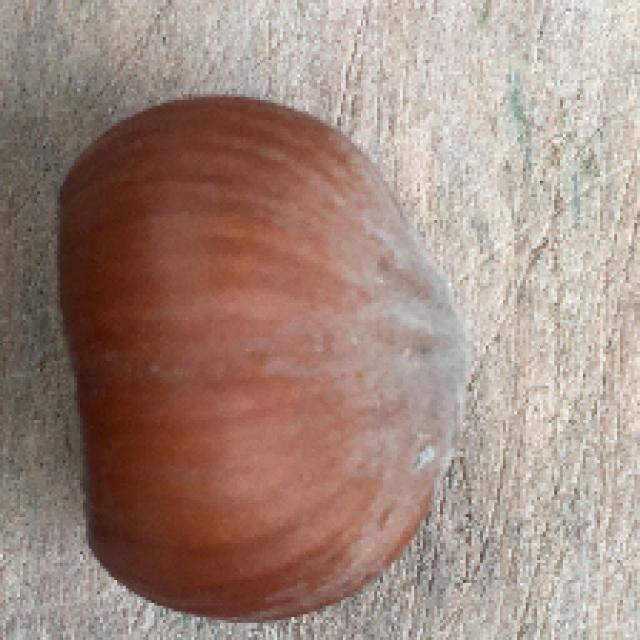qualityHazelnut: (41, 92, 479, 629)
